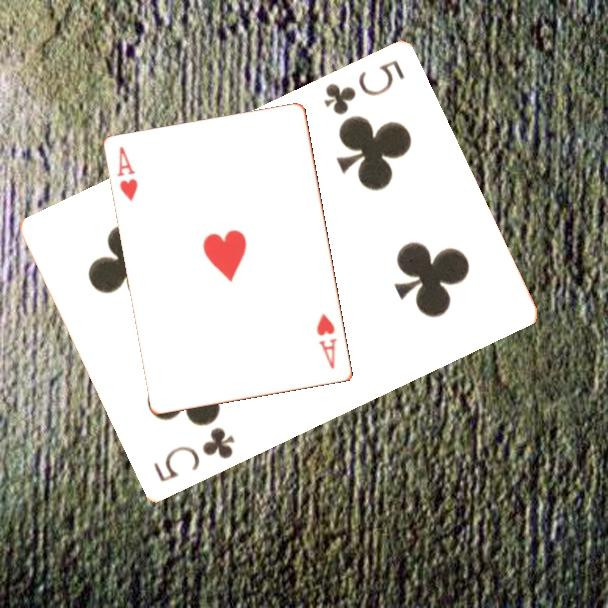c05: (319, 57, 408, 119), (150, 424, 238, 485)
h01: (313, 310, 340, 372), (114, 143, 141, 205)
